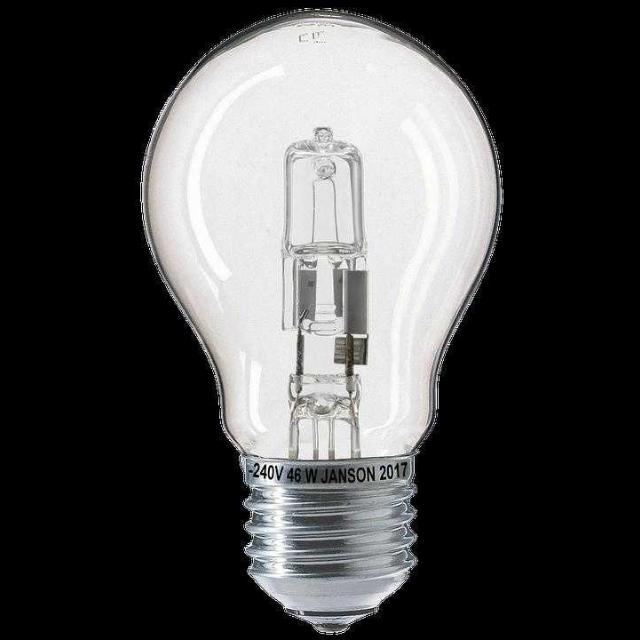light_bulb: (138, 4, 496, 630)
